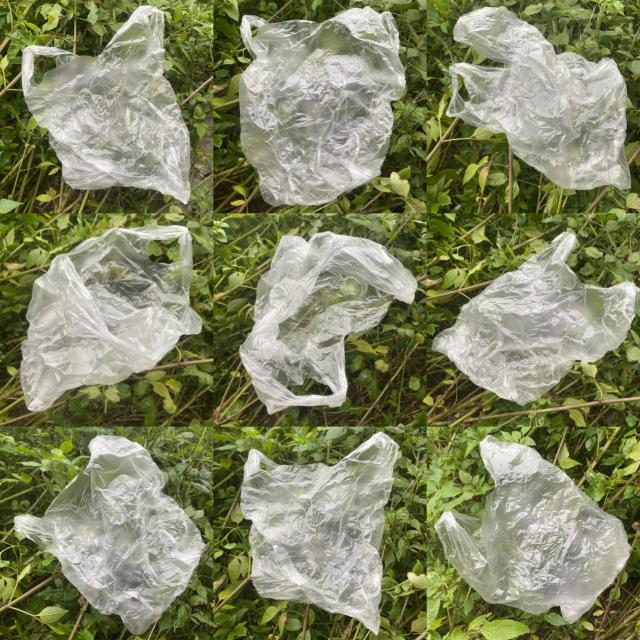Single-layer Plastic: (14, 435, 205, 634), (435, 435, 630, 622), (432, 232, 640, 405), (446, 6, 631, 189), (20, 225, 201, 411), (21, 6, 190, 204), (239, 6, 405, 206), (240, 231, 416, 413), (241, 432, 399, 634)
